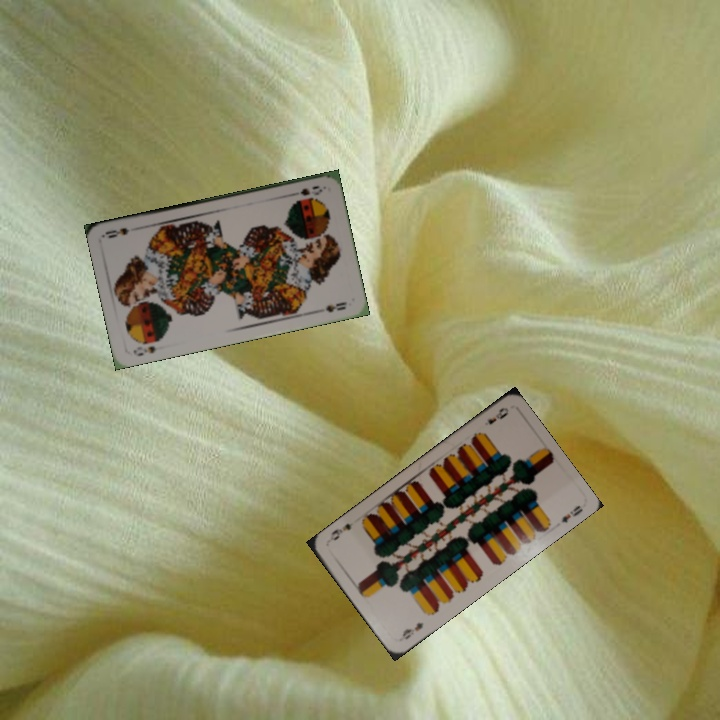E9: (483, 403, 512, 427), (398, 618, 426, 642)
SO: (129, 342, 158, 359), (296, 182, 325, 198)
